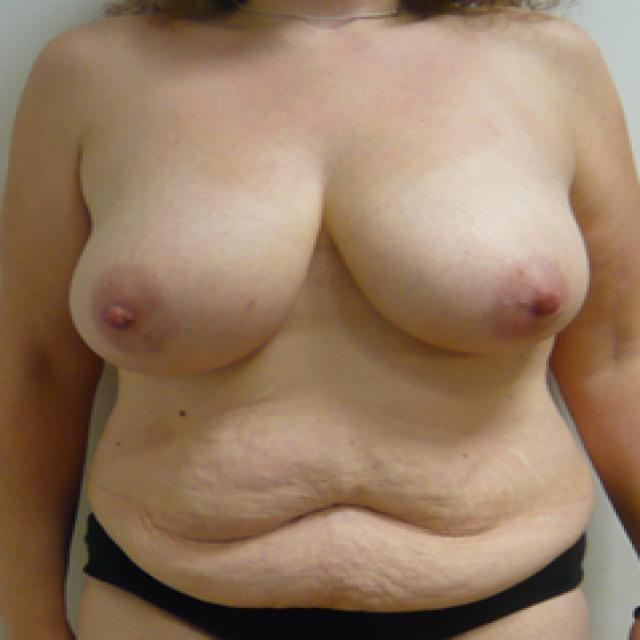Seno ileso: (54, 145, 327, 390), (329, 144, 602, 372)
